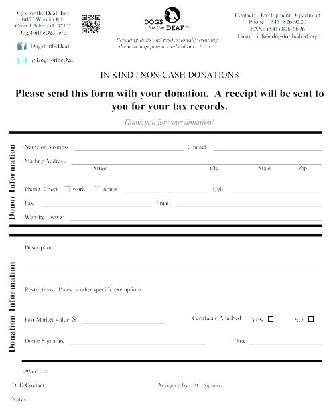checkbox: (306, 314, 316, 325), (92, 184, 102, 194), (63, 186, 72, 194), (267, 314, 275, 323)
textline: (19, 255, 324, 269), (19, 268, 324, 282), (27, 393, 320, 407), (55, 240, 324, 254), (71, 154, 328, 167), (67, 332, 224, 348), (173, 197, 323, 210), (70, 153, 195, 167), (72, 139, 186, 153), (38, 197, 154, 210), (212, 140, 324, 153), (80, 311, 165, 326), (247, 333, 328, 348), (226, 183, 324, 195), (119, 184, 210, 194), (195, 152, 242, 168), (242, 154, 285, 168), (285, 156, 324, 167)
